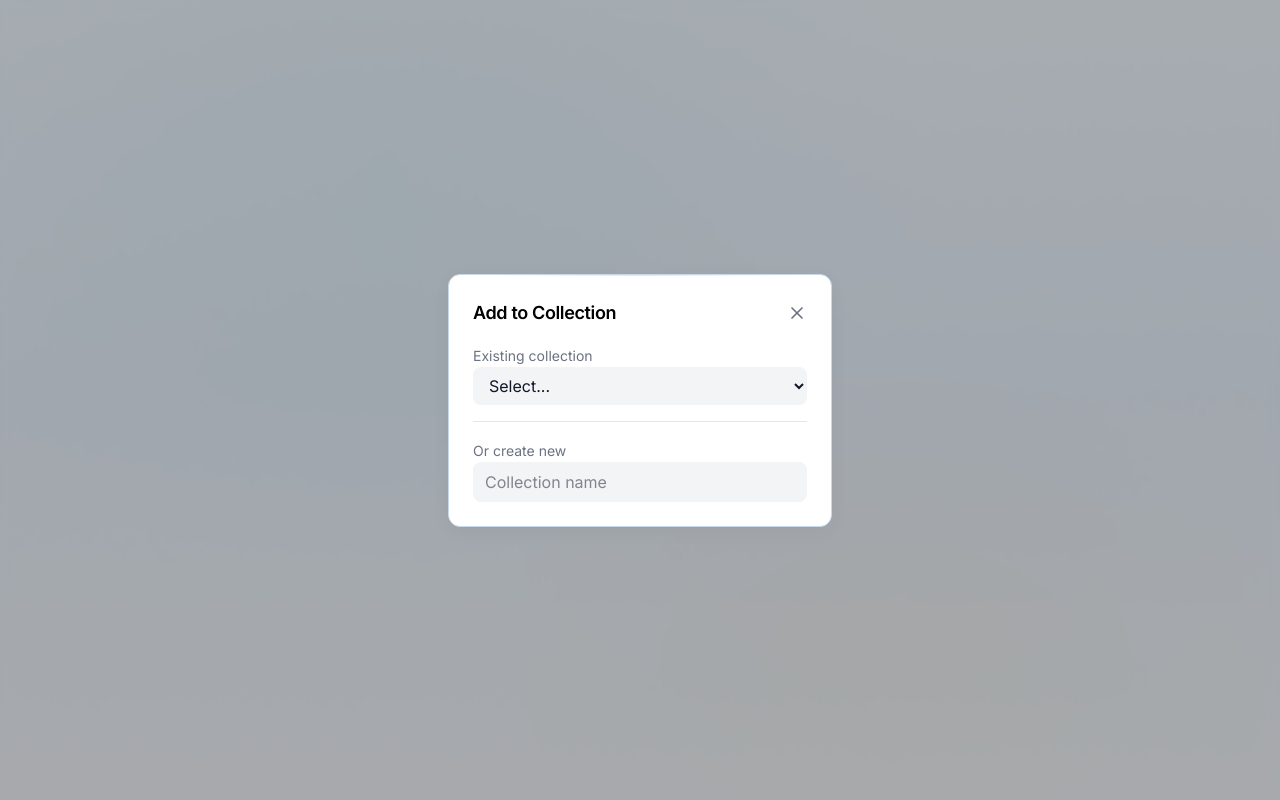
it: AddToCollectionModal › shows create button when name entered
Type "New Coll" into the field with placeholder "Collection name" at (640,482), box [473,462,807,502]
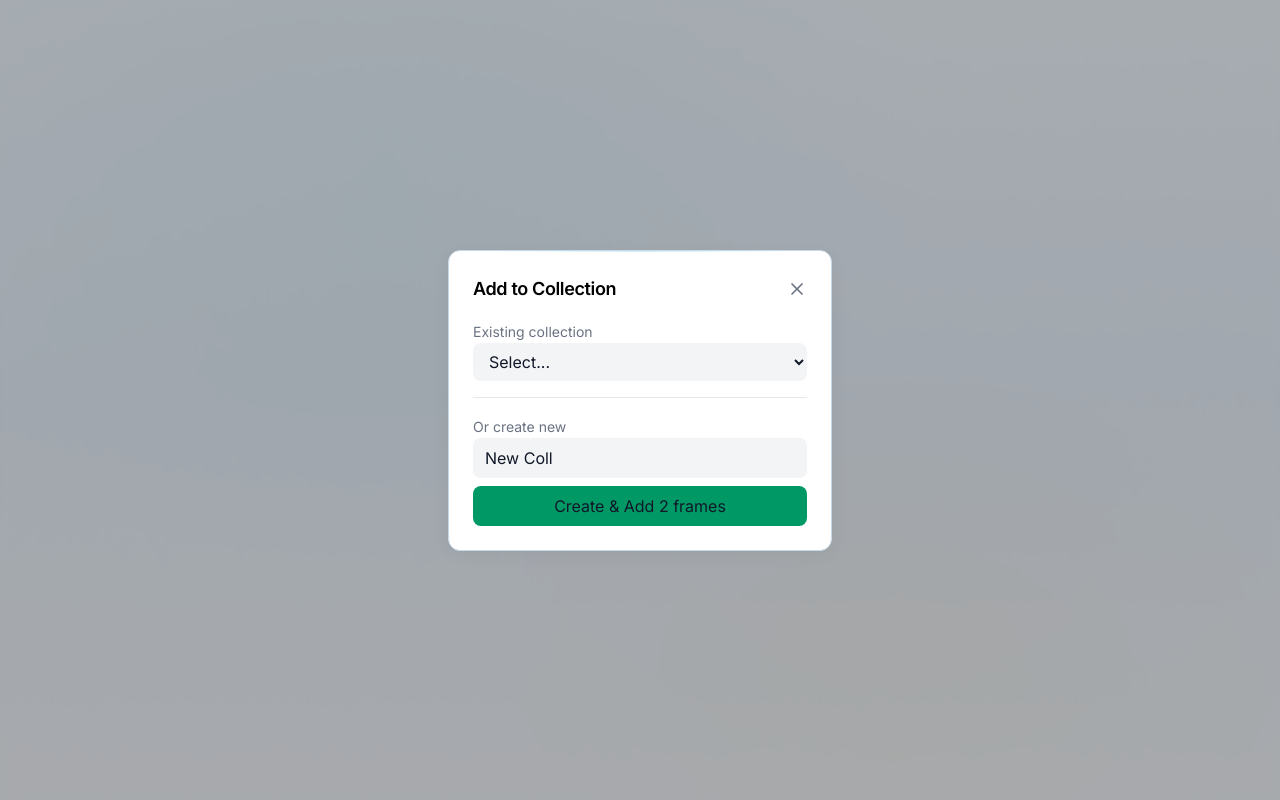
Now the button "Create & Add 2 frames" is shown, box [473,486,807,526]
